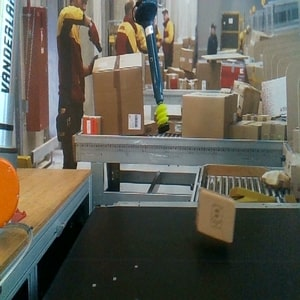box: (194, 185, 238, 245)
